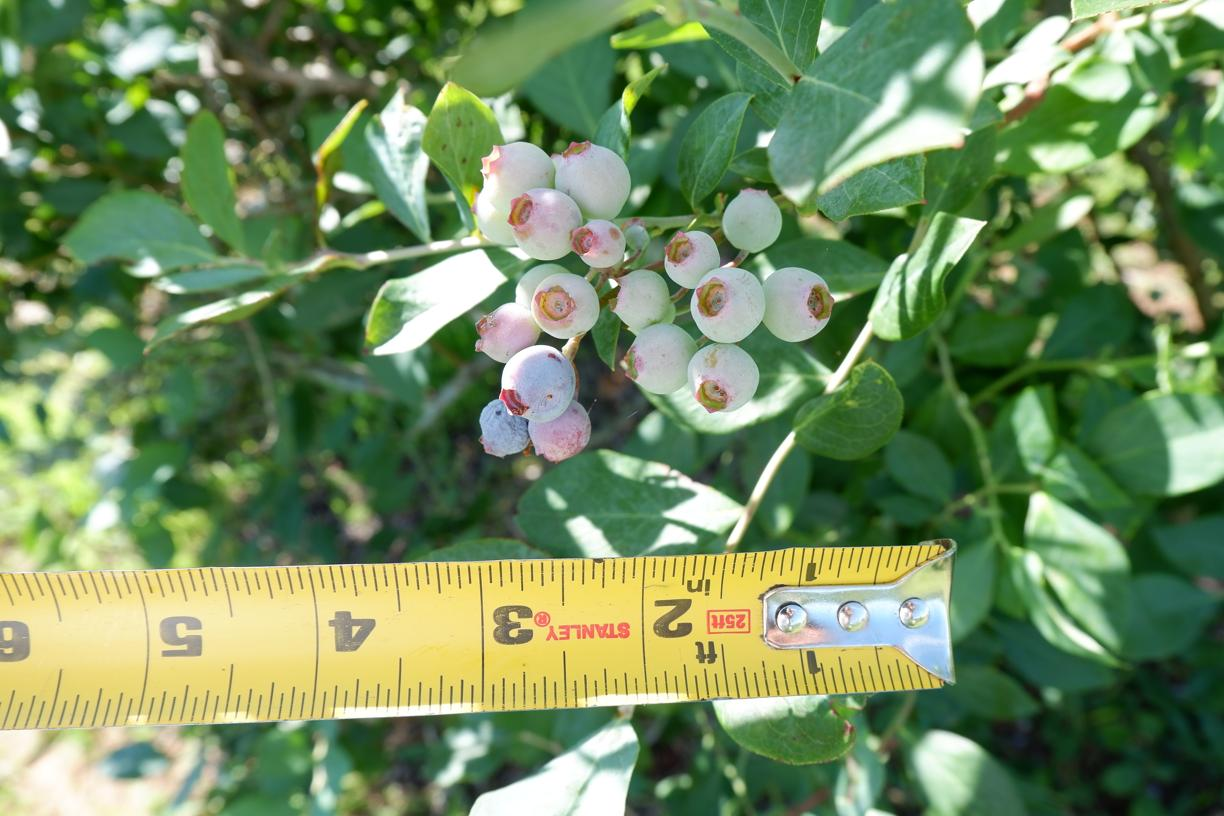Immature: (551, 139, 631, 220), (499, 344, 576, 422), (690, 266, 767, 344), (619, 324, 699, 395), (506, 188, 583, 260), (480, 142, 554, 216), (762, 268, 834, 342), (687, 343, 759, 414), (530, 272, 600, 338), (528, 400, 591, 464), (475, 302, 541, 363), (721, 188, 782, 254), (608, 269, 670, 331), (664, 231, 721, 290), (571, 219, 626, 267), (516, 264, 573, 310), (471, 192, 517, 246), (624, 300, 676, 337), (623, 225, 649, 250)
Mature: (478, 399, 531, 458)
